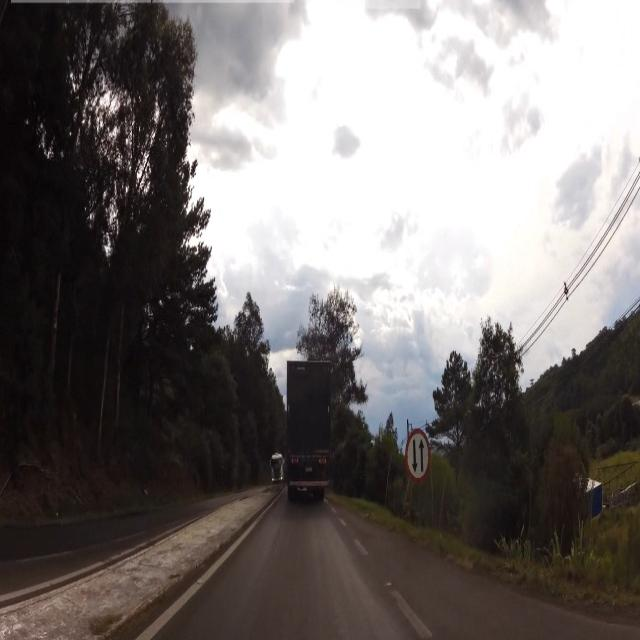R-28: (405, 422, 432, 488)
